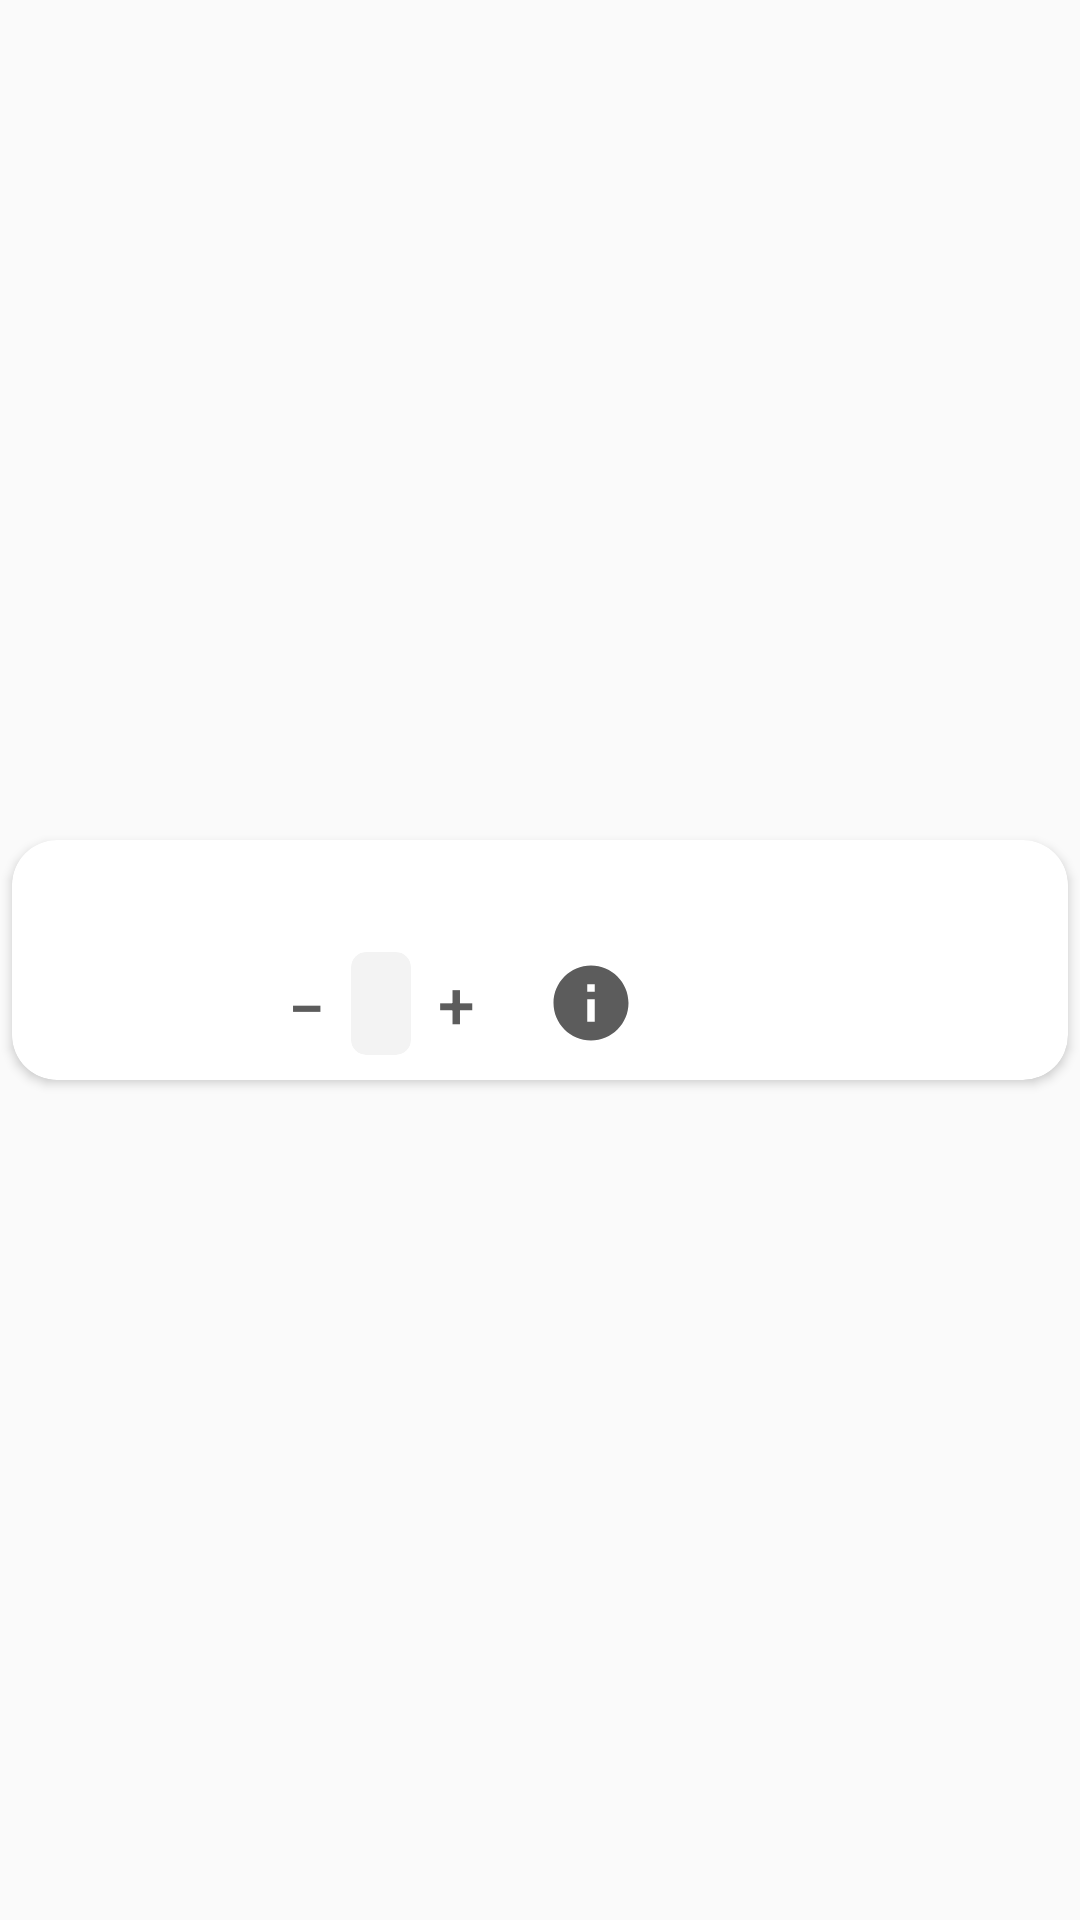

Icons on this 1080 x 1920 Android screen, each with its box as (x1, y1, x2, y2):
info: (553, 965, 629, 1041)
